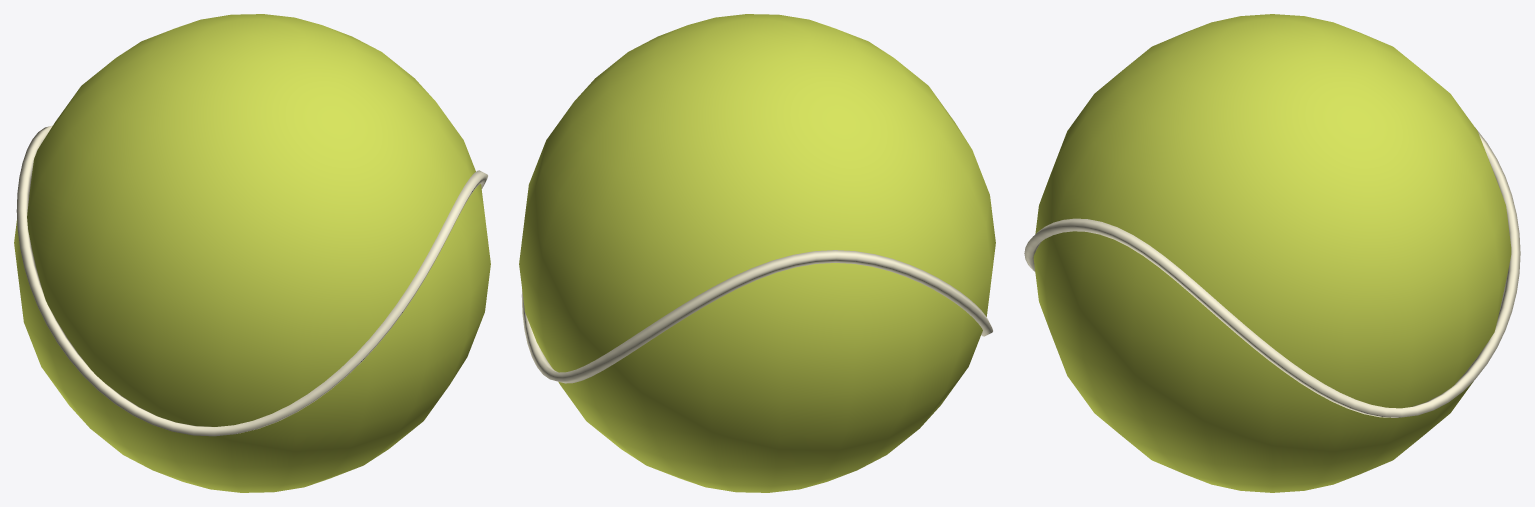
File: ball.glb
The picture shows the model from 3 angles, left to right: view 1: azimuth 30°, elevation 25°; view 2: azimuth 150°, elevation 25°; view 3: azimuth 270°, elevation 25°; orthographic projection.
Parts seen in each view (by area): view 1: Felt ball, Continuous tennis seam; view 2: Felt ball, Continuous tennis seam; view 3: Felt ball, Continuous tennis seam.
Boxes of the visible parts, x1,y1,x2,y2 form: Felt ball: (14,14,490,492); Continuous tennis seam: (16,125,487,436); Felt ball: (519,14,995,492); Continuous tennis seam: (521,250,992,383); Felt ball: (1033,14,1511,492); Continuous tennis seam: (1024,127,1520,417).
Bounding box in the file's own units: 0.0694 × 0.067 × 0.0694.
